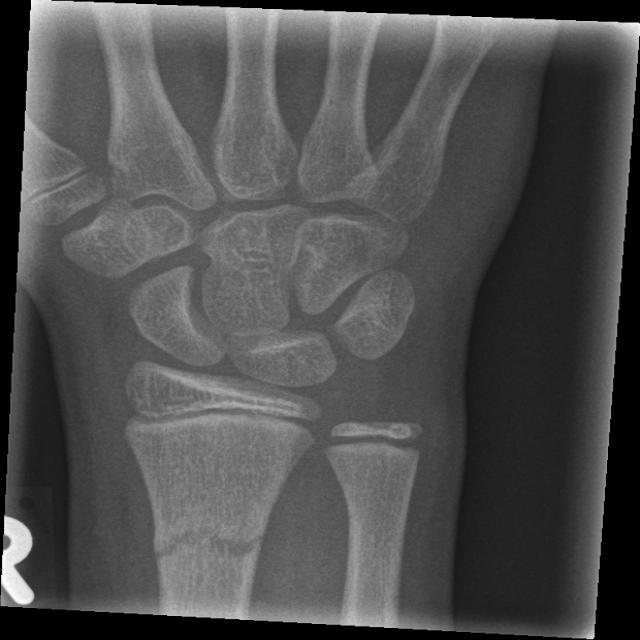radius fracture: (127, 441, 305, 598)
